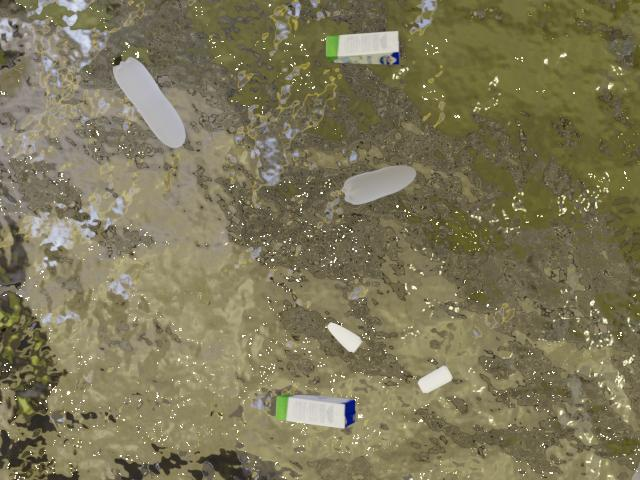Metal: (302, 311, 377, 359), (402, 355, 462, 402)
Plastic: (87, 36, 203, 162), (328, 158, 422, 210)
Trash: (314, 21, 403, 82), (266, 385, 358, 436)
